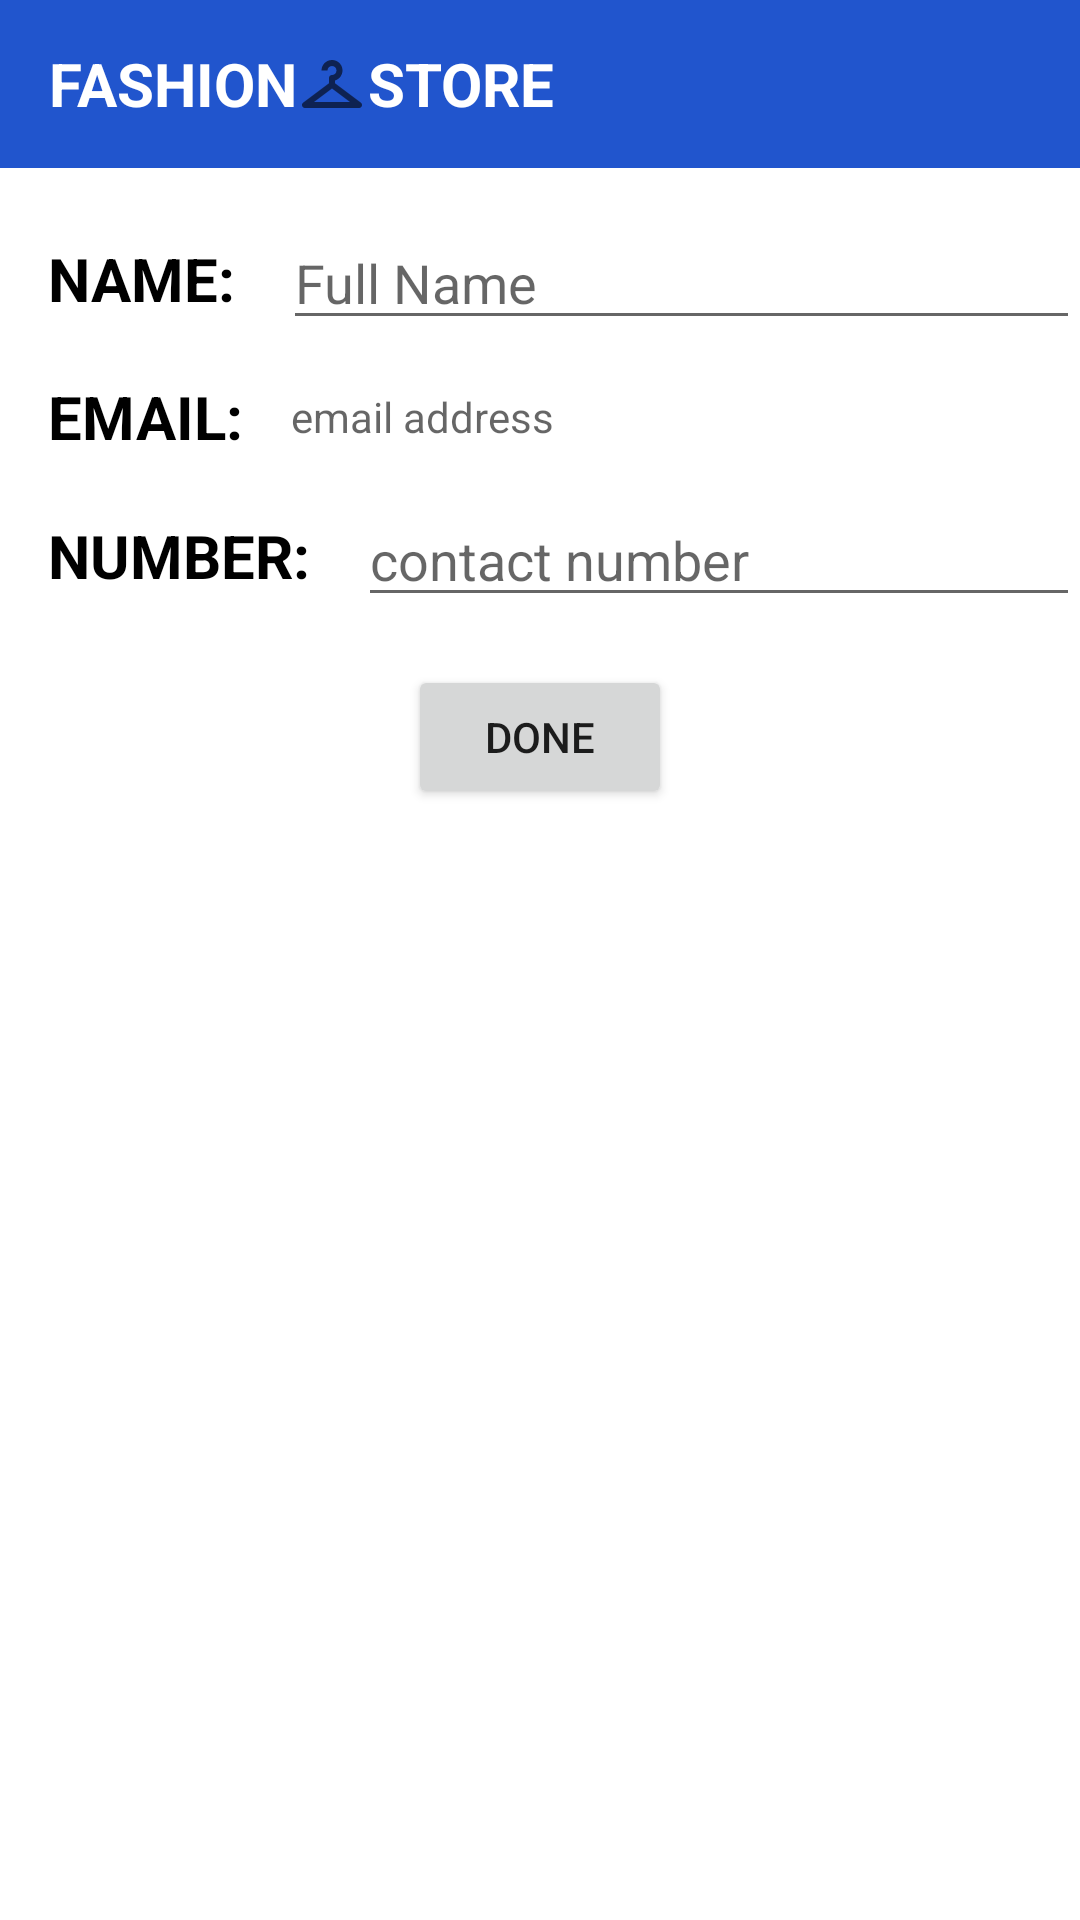

Point at icon controls on the screen. Image size 1080 × 1920, points as (x,y).
checkroom: (332,84)
